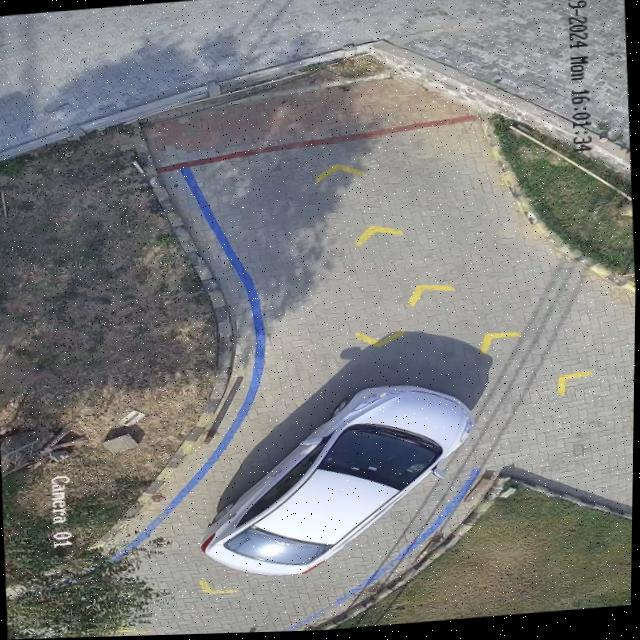car: (201, 388, 473, 577)
